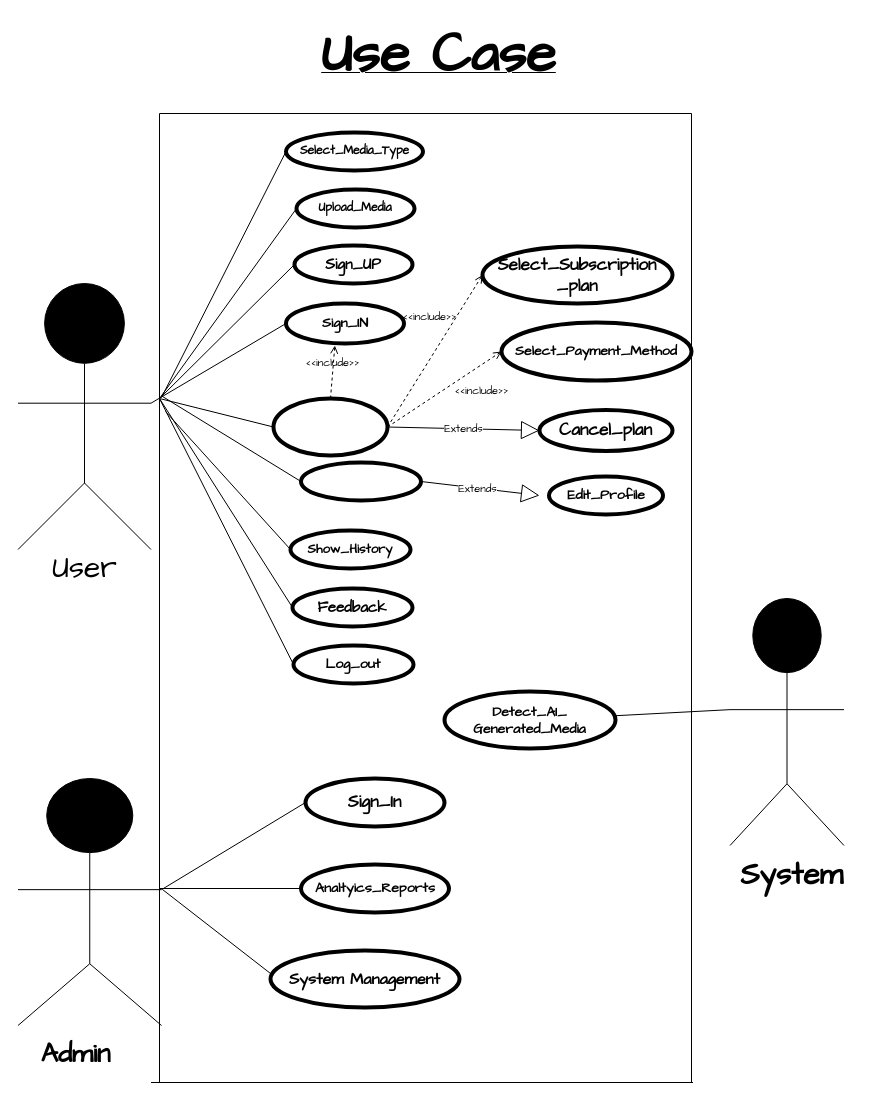
The diagram is 874 pixels wide and 1101 high, and some of its shapes have lost their labels. The shapes that lost their labels are listed below. From the top down, each one's box as (x1, y1, x2, y2) in pixels, then its label:
(271, 396, 389, 457): Subscribe
(298, 460, 422, 502): Show_Profile _info
